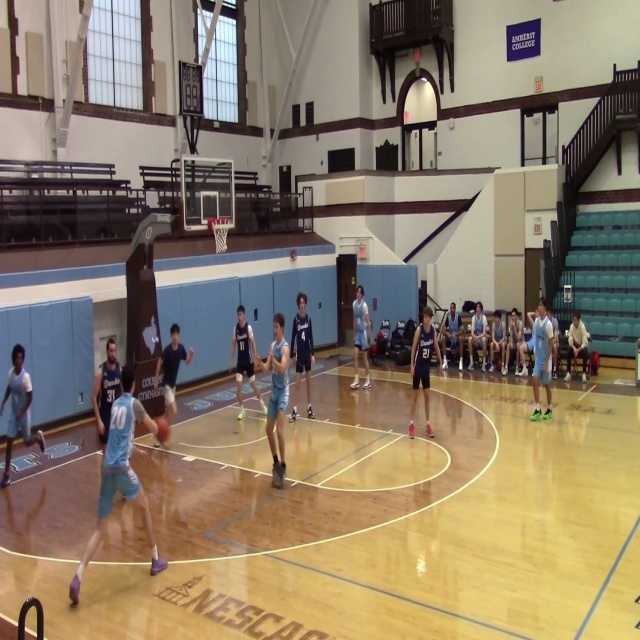Basketball: (153, 416, 170, 444), (185, 347, 194, 365), (290, 250, 297, 262)
